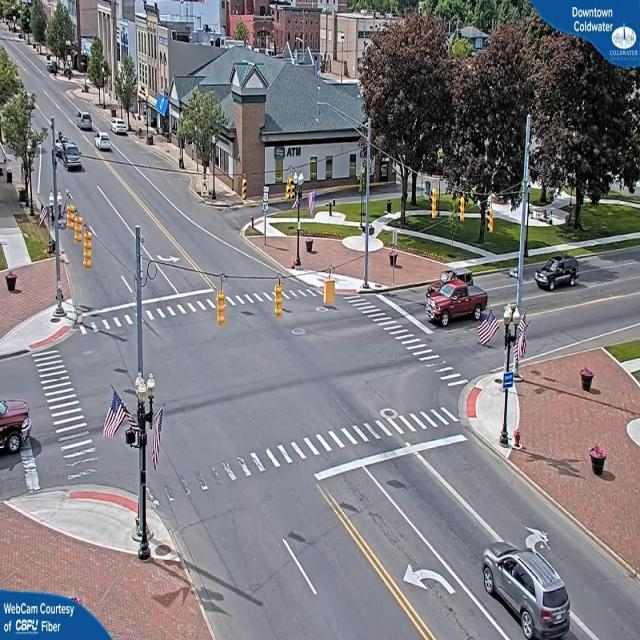car: (480, 540, 578, 638), (424, 274, 489, 328), (534, 257, 582, 291), (63, 143, 81, 171), (95, 132, 112, 152), (78, 112, 94, 132), (112, 120, 128, 136)
truck: (1, 397, 34, 459)
